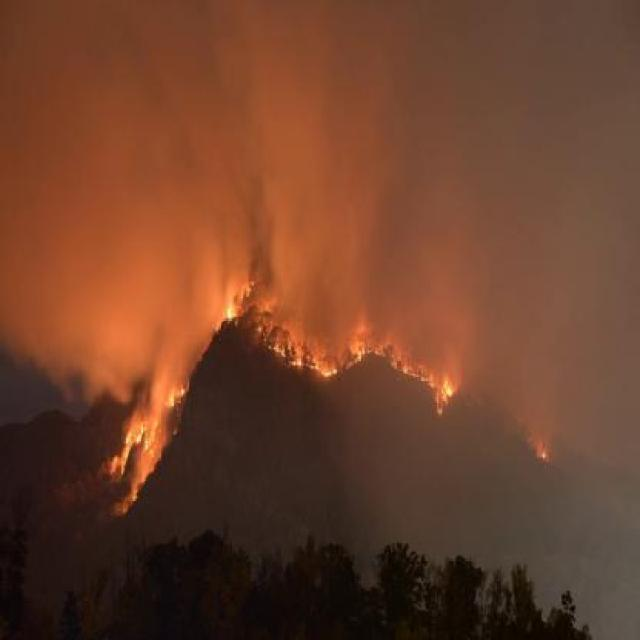Fire: (109, 421, 158, 514), (220, 278, 253, 324), (390, 359, 436, 387), (270, 343, 318, 369), (346, 344, 384, 368), (164, 386, 184, 417), (436, 374, 450, 416), (535, 442, 548, 458), (321, 367, 336, 376)
